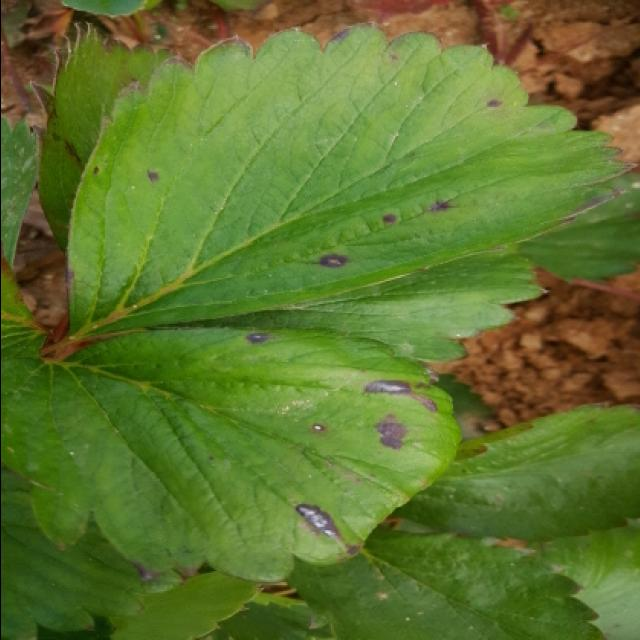Leaf Spot: (66, 20, 640, 364), (2, 269, 460, 583)
